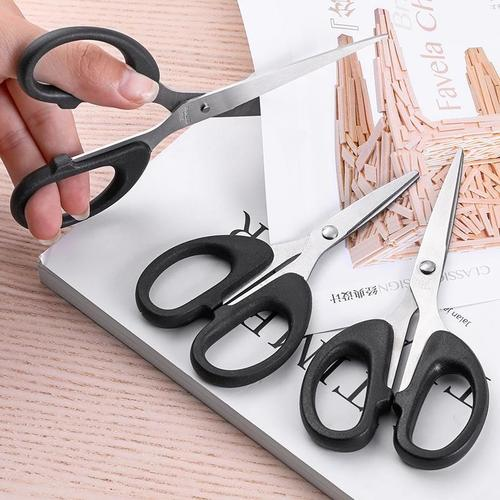scissor: (133, 170, 421, 389), (301, 149, 492, 473)
